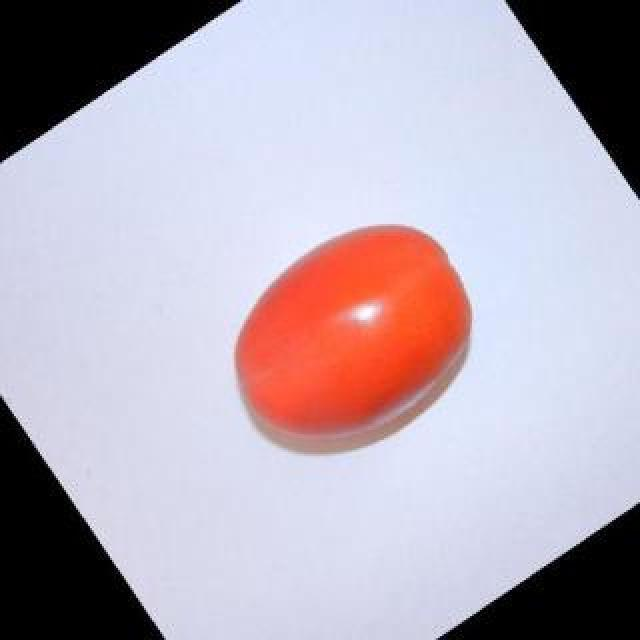tomato: (219, 213, 482, 472)
